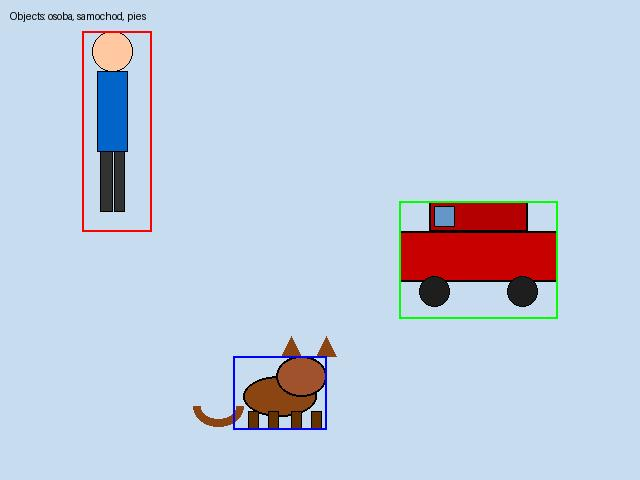osoba: (82, 31, 151, 231)
pies: (233, 356, 326, 429)
samochod: (399, 201, 557, 318)
